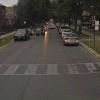Car: (58, 26, 95, 49)
